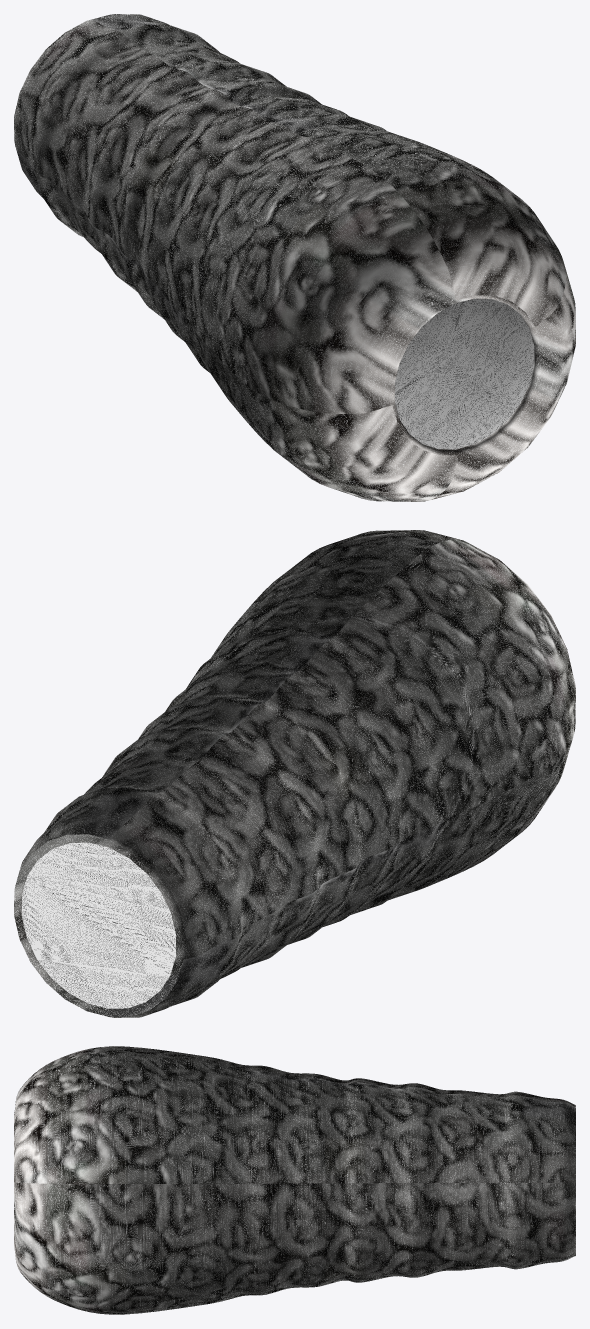
Rendered from model_scale.obj.
3 renders of one model, top to bottom at view 1: azimuth 30°, elevation 25°; view 2: azimuth 150°, elevation 25°; view 3: azimuth 270°, elevation 25°, orthographic. The views are drawn at different scales.
Visible parts, largest first — view 1: mesh1_mesh1-geometry; view 2: mesh1_mesh1-geometry; view 3: mesh1_mesh1-geometry.
Part boxes in pixels (left/top/right/bottom): mesh1_mesh1-geometry: left=14, top=14, right=575, bottom=501; mesh1_mesh1-geometry: left=14, top=530, right=575, bottom=1017; mesh1_mesh1-geometry: left=14, top=1046, right=575, bottom=1314.
Size of the model in its own units: 0.0635 by 0.0635 by 0.1335.
Materials: 3 (1 with a texture image).
